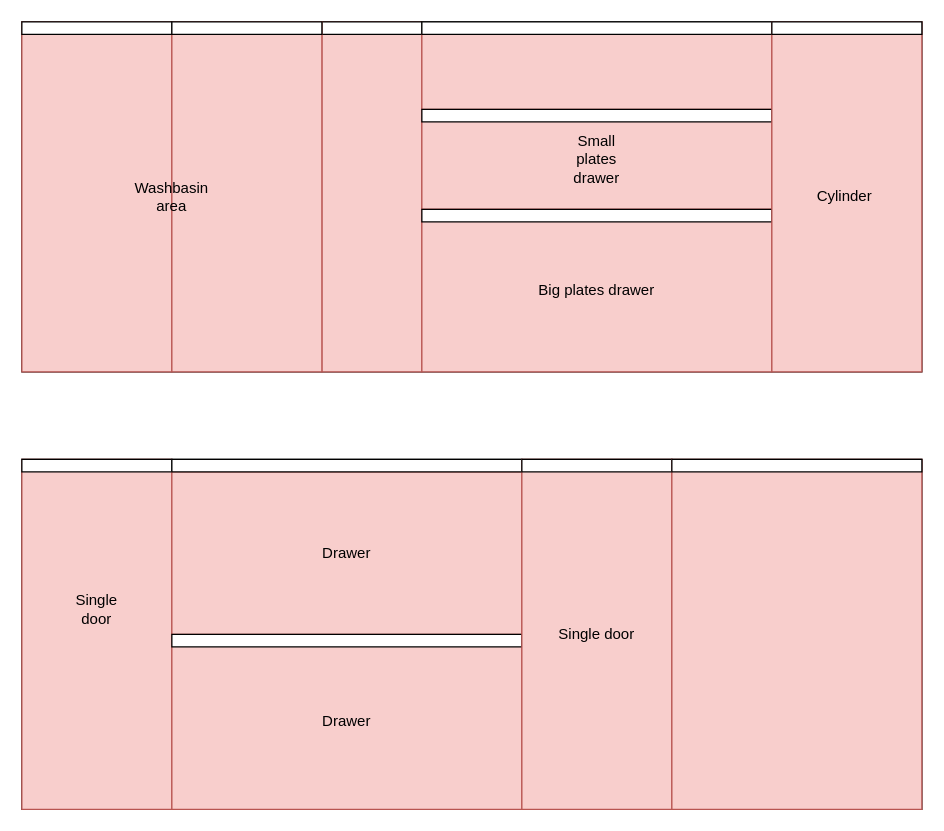
The diagram is 944 pixels wide and 831 high, and some of its shapes have lost their labels. The centre of each missing label's shape, as x and y in pixels:
"Oil tray" goes at (x=371, y=196).
"Single door For Rice drum" goes at (x=796, y=633).
"Spoon drawer" goes at (x=596, y=71).
